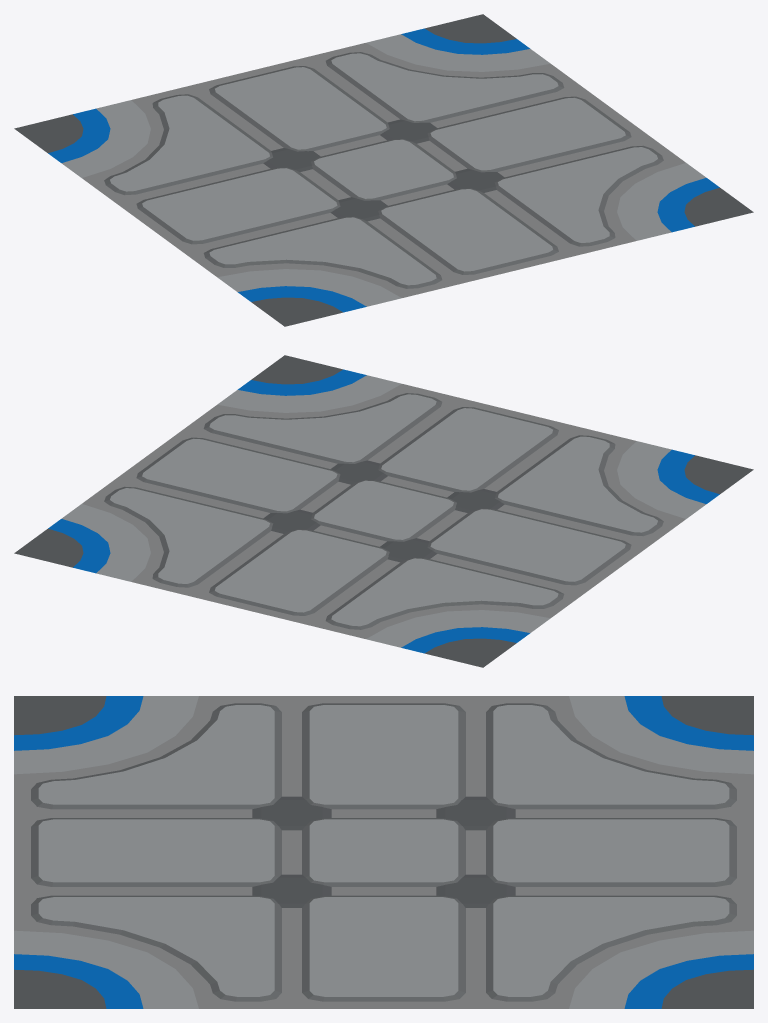
The model's file is Floor_type_B_015.fbx.
The picture shows the model from 3 angles, top to bottom: view 1: azimuth 30°, elevation 25°; view 2: azimuth 150°, elevation 25°; view 3: azimuth 270°, elevation 25°; orthographic projection. The views are drawn at different scales.
Visible parts, largest first — view 1: Floor_type_B_015; view 2: Floor_type_B_015; view 3: Floor_type_B_015.
Boxes of the visible parts, x1,y1,x2,y2 form: Floor_type_B_015: (14,14,753,326); Floor_type_B_015: (14,355,753,667); Floor_type_B_015: (14,696,753,1008).
Bounding box in the file's own units: 400 × 400 × 1.34.
